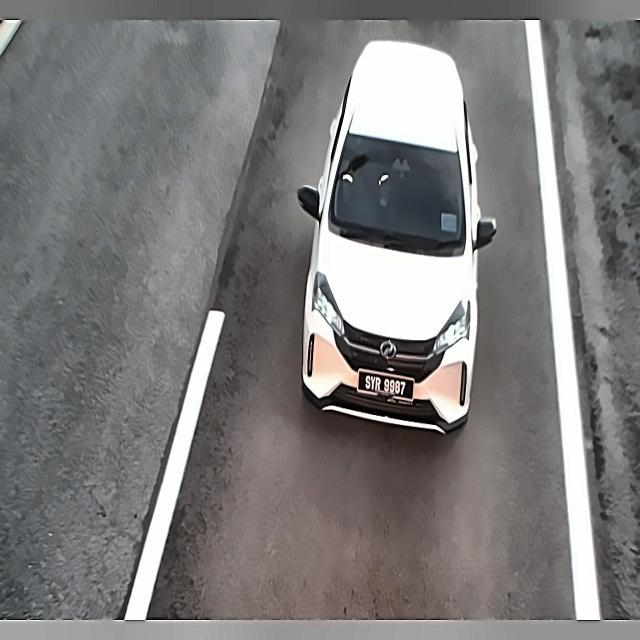car: (357, 369, 412, 400)
